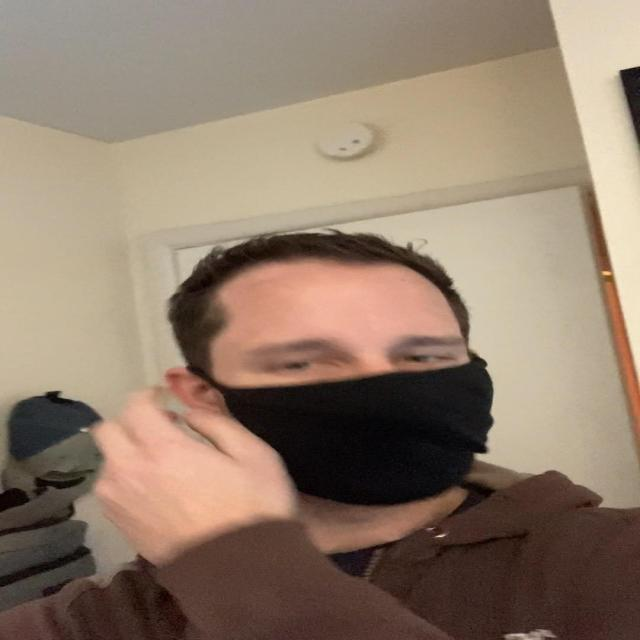no-helmet: (187, 235, 524, 502)
